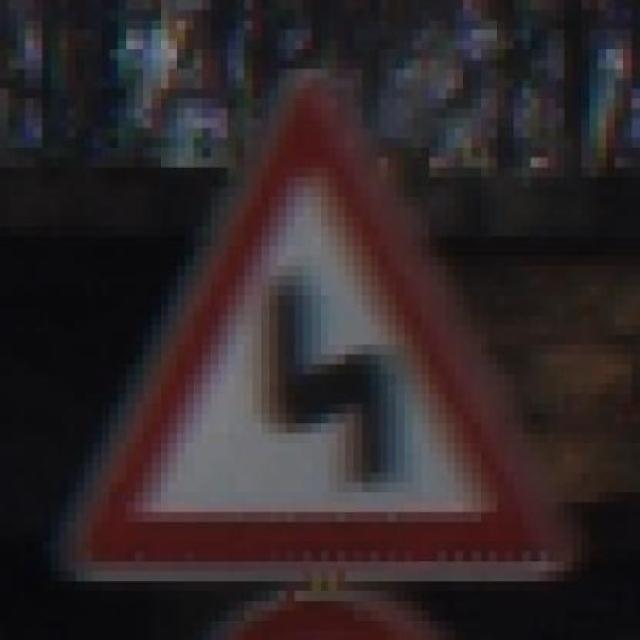Left Zig Zag Traffic: (59, 59, 598, 590)
